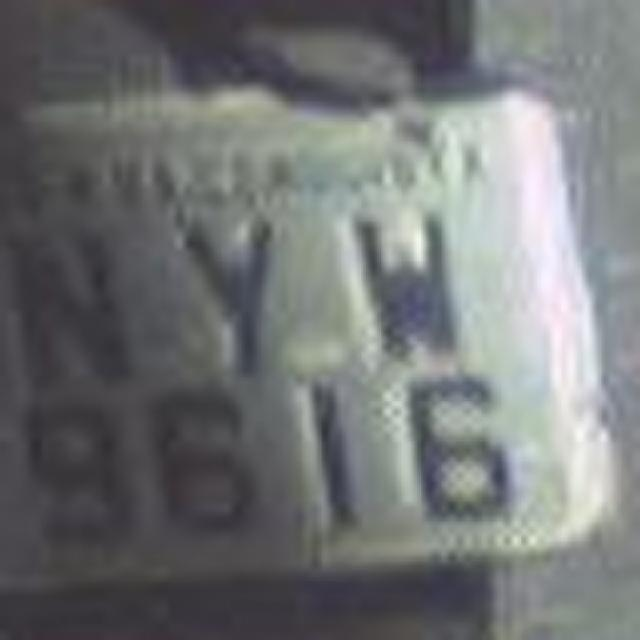1: (292, 372, 380, 528)
6: (392, 345, 532, 540), (145, 372, 280, 556)
9: (20, 392, 152, 560)
N: (8, 208, 144, 400)
W: (344, 184, 456, 364)
Y: (160, 196, 288, 376)
